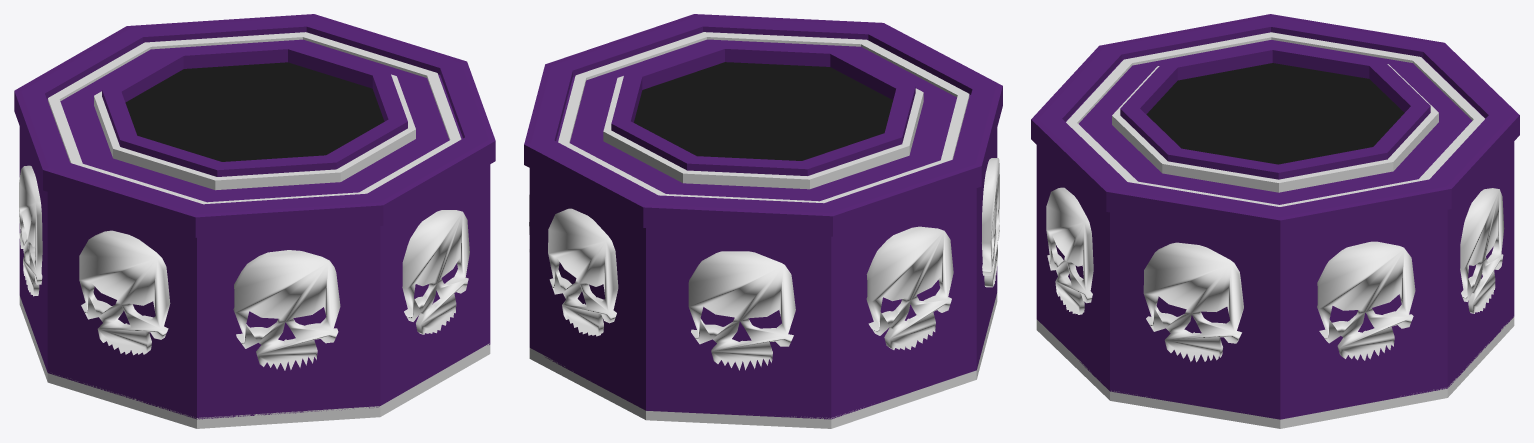
3 renders of one model, left to right at view 1: azimuth 30°, elevation 25°; view 2: azimuth 150°, elevation 25°; view 3: azimuth 270°, elevation 25°, orthographic.
Parts seen in each view (by area): view 1: Cylinder, Cylinder.005, Cylinder.002, Cylinder.001, Cylinder.003; view 2: Cylinder, Cylinder.005, Cylinder.002, Cylinder.001, Cylinder.003; view 3: Cylinder, Cylinder.005, Cylinder.002, Cylinder.001, Cylinder.003.
Part boxes in pixels (x1,y1,x2,y2): Cylinder: [19, 39, 490, 419]; Cylinder.005: [19, 32, 490, 428]; Cylinder.002: [14, 14, 495, 237]; Cylinder.001: [125, 62, 384, 161]; Cylinder.003: [102, 41, 407, 176]; Cylinder: [529, 39, 997, 419]; Cylinder.005: [529, 32, 999, 428]; Cylinder.002: [524, 14, 1002, 236]; Cylinder.001: [634, 62, 892, 160]; Cylinder.003: [611, 40, 915, 175]; Cylinder: [1036, 40, 1514, 419]; Cylinder.005: [1036, 32, 1514, 428]; Cylinder.002: [1031, 14, 1519, 240]; Cylinder.001: [1146, 63, 1404, 164]; Cylinder.003: [1120, 41, 1430, 179].
Size of the model in its own units: 205 by 102 by 205.
